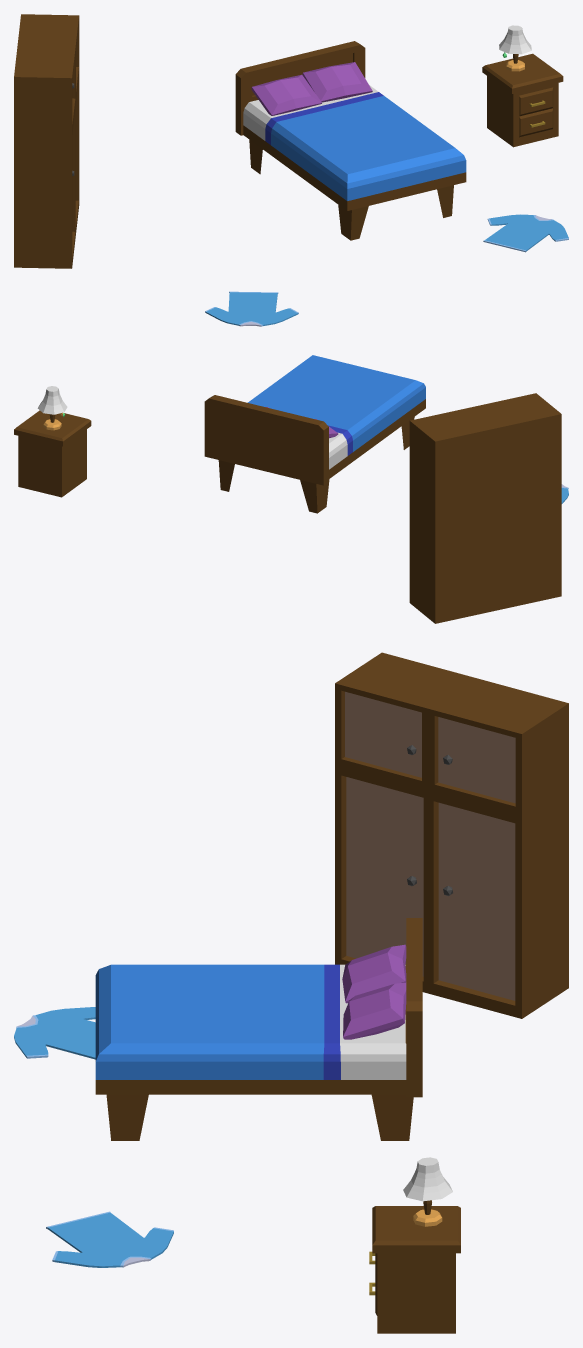
The model's file is room.fbx.
3 views of the same model, one above another, from view 1: azimuth 30°, elevation 25°; view 2: azimuth 150°, elevation 25°; view 3: azimuth 270°, elevation 25° (orthographic). The views are drawn at different scales.
Parts seen in each view (by area): view 1: Bed.002, Closet, Nightstand, Plane.001, Plane, Bed.008, Bed, Lamp; view 2: Closet, Bed.002, Nightstand, Lamp; view 3: Closet, Bed.002, Nightstand, Plane.001, Plane, Bed.008, Bed, Lamp.
Part boxes in pixels (bbox=[...]): Bed.002: bbox=[235, 41, 466, 240]; Closet: bbox=[14, 14, 79, 268]; Nightstand: bbox=[482, 53, 563, 147]; Plane.001: bbox=[483, 214, 568, 252]; Plane: bbox=[205, 291, 298, 326]; Bed.008: bbox=[302, 62, 372, 102]; Bed: bbox=[251, 74, 321, 115]; Lamp: bbox=[499, 25, 531, 71]; Closet: bbox=[409, 393, 561, 623]; Bed.002: bbox=[204, 355, 425, 513]; Nightstand: bbox=[14, 410, 91, 497]; Lamp: bbox=[37, 386, 67, 430]; Closet: bbox=[335, 652, 568, 1018]; Bed.002: bbox=[95, 918, 422, 1140]; Nightstand: bbox=[369, 1206, 460, 1333]; Plane.001: bbox=[46, 1211, 173, 1267]; Plane: bbox=[14, 1007, 95, 1059]; Bed.008: bbox=[343, 982, 406, 1039]; Bed: bbox=[342, 944, 406, 1003]; Lamp: bbox=[403, 1157, 452, 1226].
Bounding box in the file's own units: 1714 × 572 × 1009.
